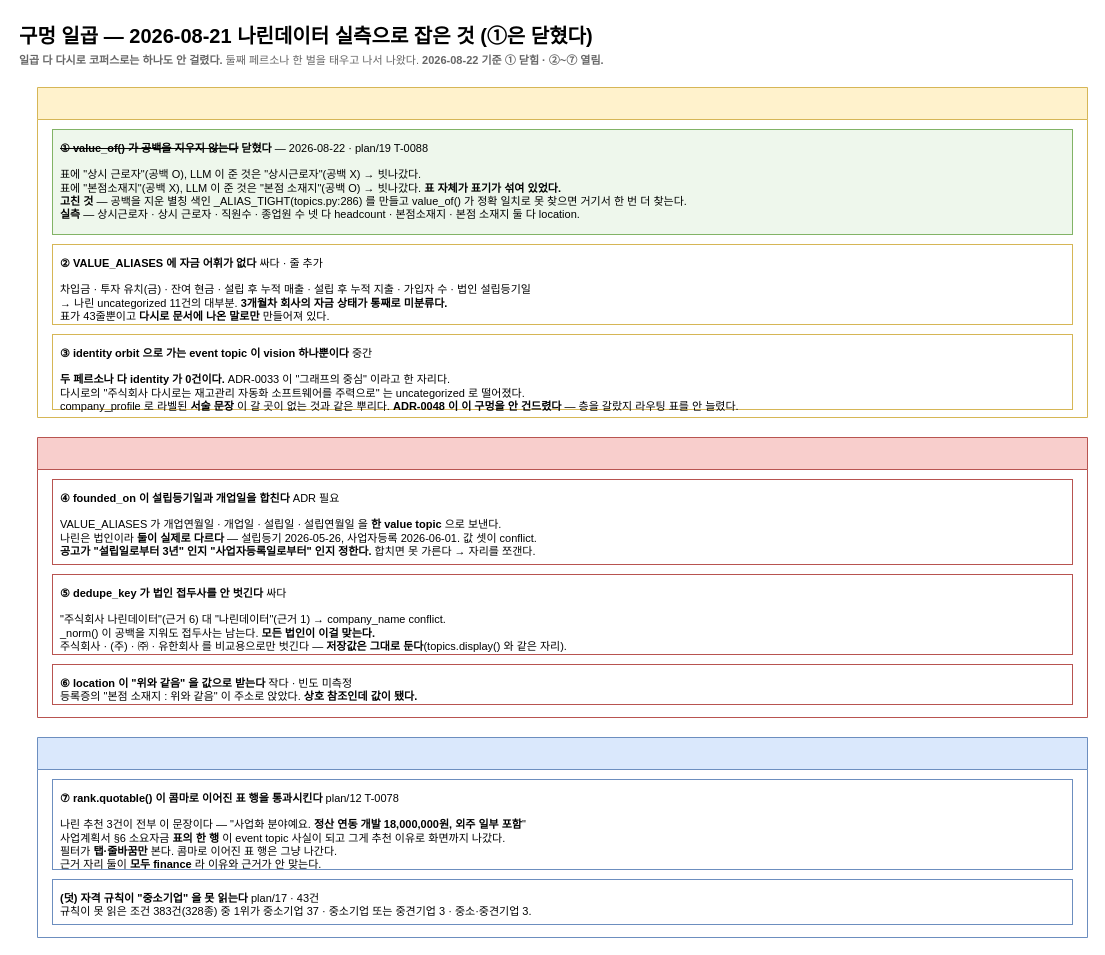
Image size: 1105x955. Some labels were removed from this diagram. The shapes that lost their labels are listed below. From the top down, each one's box as (x1, y1, x2, y2) in pixels, then its label:
(36, 86, 1088, 418): wiki/topics.py — 사람이 만든 표
(36, 436, 1088, 718): wiki/topics.py + merge.py — 병합
(36, 736, 1088, 938): match/ — 자격과 인용
